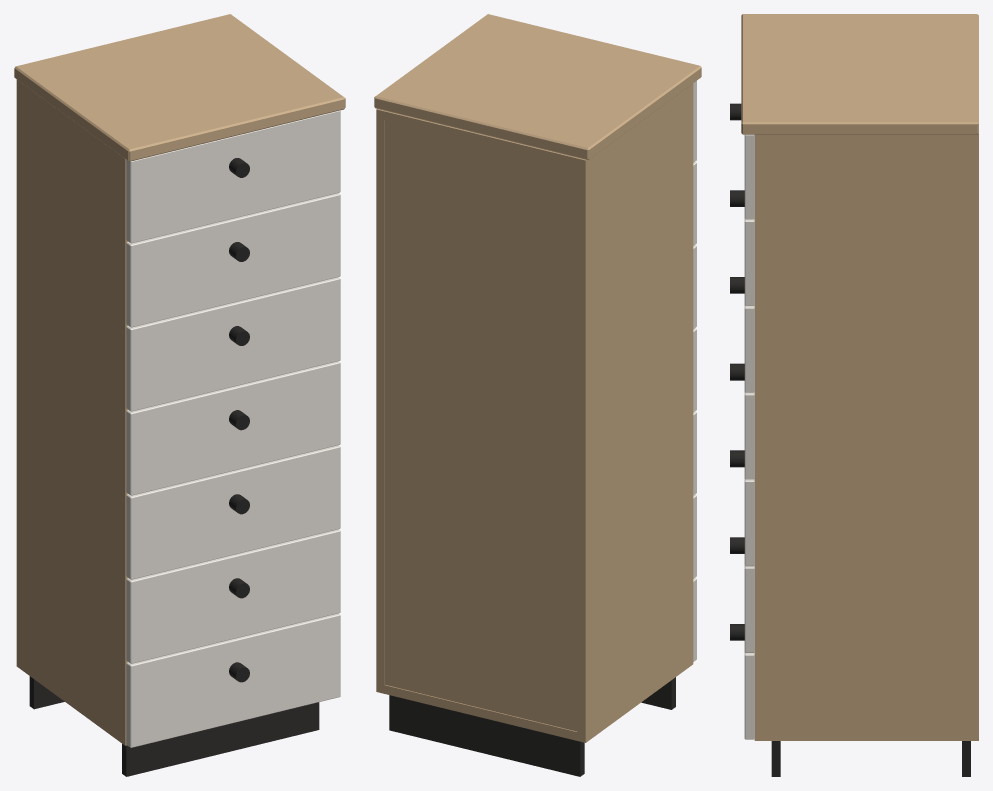
Rendered from 46_komoda_45_7sz.glb.
The picture shows the model from 3 angles, left to right: view 1: azimuth 30°, elevation 25°; view 2: azimuth 150°, elevation 25°; view 3: azimuth 270°, elevation 25°; orthographic projection. The views are drawn at different scales.
Visible parts, largest first — view 1: Korpus, Wierzch, Front_szuflada_7, Front_szuflada_5, Front_szuflada_6, Front_szuflada_2, Front_szuflada_3, Front_szuflada_4, Front_szuflada_1, Cokol, Uchwyty; view 2: Korpus, Wierzch, Cokol; view 3: Korpus, Wierzch, Uchwyty, Front_szuflada_4, Front_szuflada_5, Front_szuflada_3, Front_szuflada_7, Front_szuflada_2, Front_szuflada_6, Front_szuflada_1, Cokol.
Boxes of the visible parts, bbox=[...] form: Korpus: bbox=[16, 79, 127, 745]; Wierzch: bbox=[14, 14, 345, 161]; Front_szuflada_7: bbox=[126, 613, 340, 747]; Front_szuflada_5: bbox=[126, 445, 340, 579]; Front_szuflada_6: bbox=[126, 529, 340, 663]; Front_szuflada_2: bbox=[126, 193, 340, 327]; Front_szuflada_3: bbox=[126, 277, 340, 411]; Front_szuflada_4: bbox=[126, 361, 340, 495]; Front_szuflada_1: bbox=[126, 110, 340, 243]; Cokol: bbox=[29, 676, 319, 776]; Uchwyty: bbox=[229, 158, 249, 682]; Korpus: bbox=[376, 83, 693, 742]; Wierzch: bbox=[374, 14, 701, 160]; Cokol: bbox=[389, 677, 675, 776]; Korpus: bbox=[754, 133, 978, 740]; Wierzch: bbox=[741, 14, 978, 134]; Uchwyty: bbox=[730, 103, 744, 640]; Front_szuflada_4: bbox=[744, 392, 754, 479]; Front_szuflada_5: bbox=[744, 479, 754, 566]; Front_szuflada_3: bbox=[744, 305, 754, 392]; Front_szuflada_7: bbox=[744, 652, 754, 739]; Front_szuflada_2: bbox=[744, 219, 754, 305]; Front_szuflada_6: bbox=[744, 566, 754, 652]; Front_szuflada_1: bbox=[744, 134, 754, 219]; Cokol: bbox=[771, 741, 970, 776].
Size of the model in its own units: 0.462 by 1.3 by 0.444.
